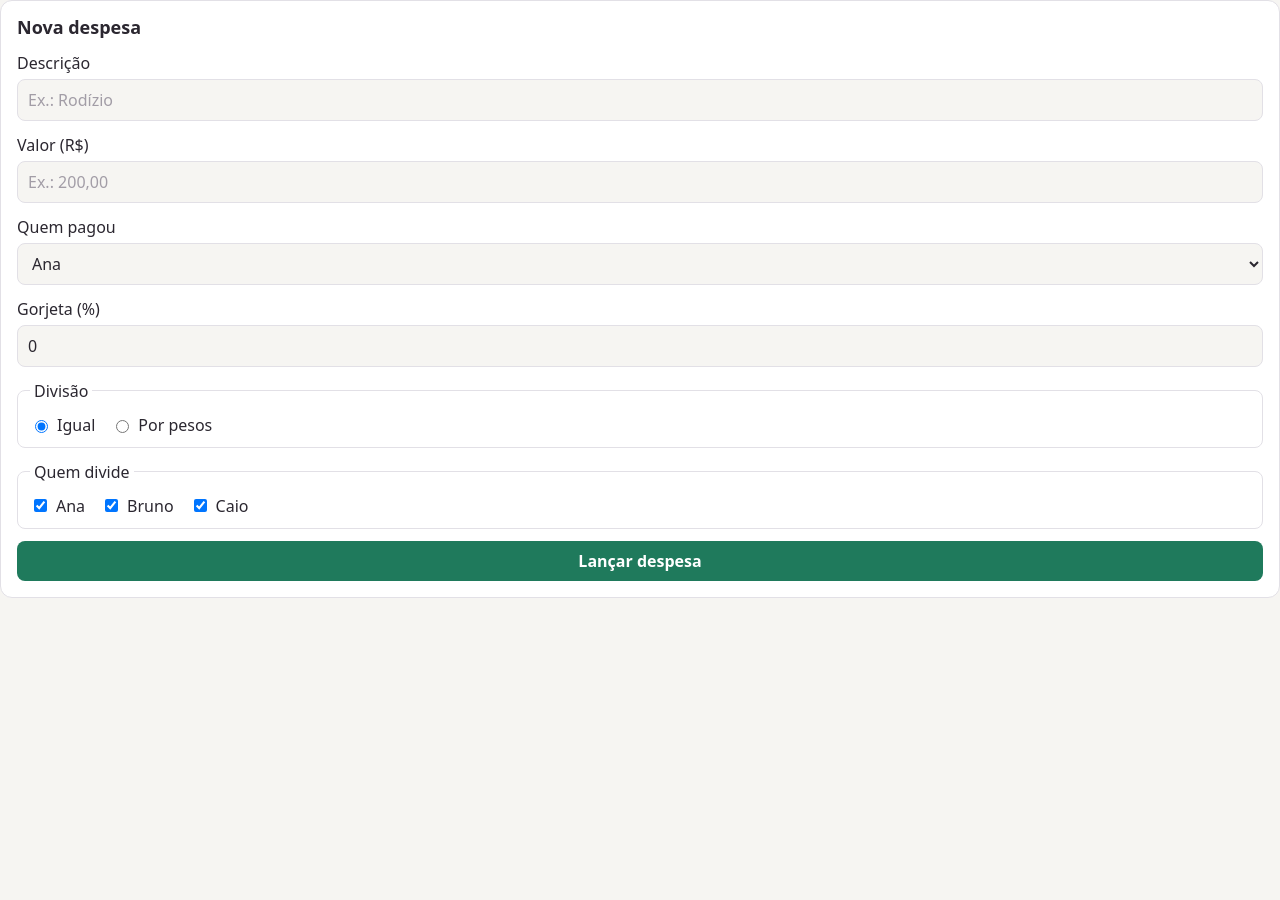
DespesaForm › deve recusar com mensagem quando o valor não é válido
The width and height of the screenshot is (1280, 900).
Step 1. Type "0,00" into the field labelled "Valor (R$)" → (640, 182), box left=17, top=161, right=1263, bottom=203
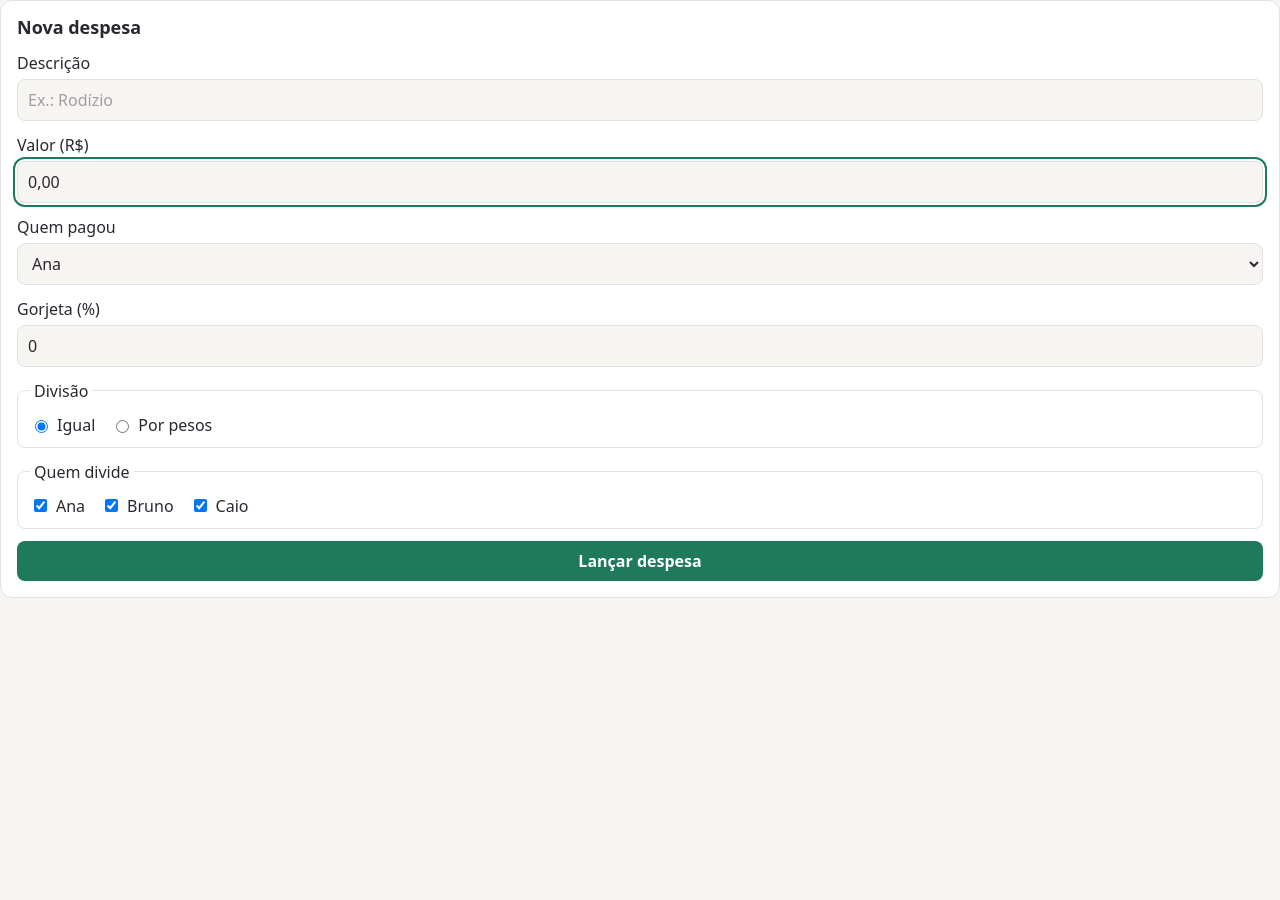
Step 2. Click the button "Lançar despesa" → (640, 561), box left=17, top=541, right=1263, bottom=581
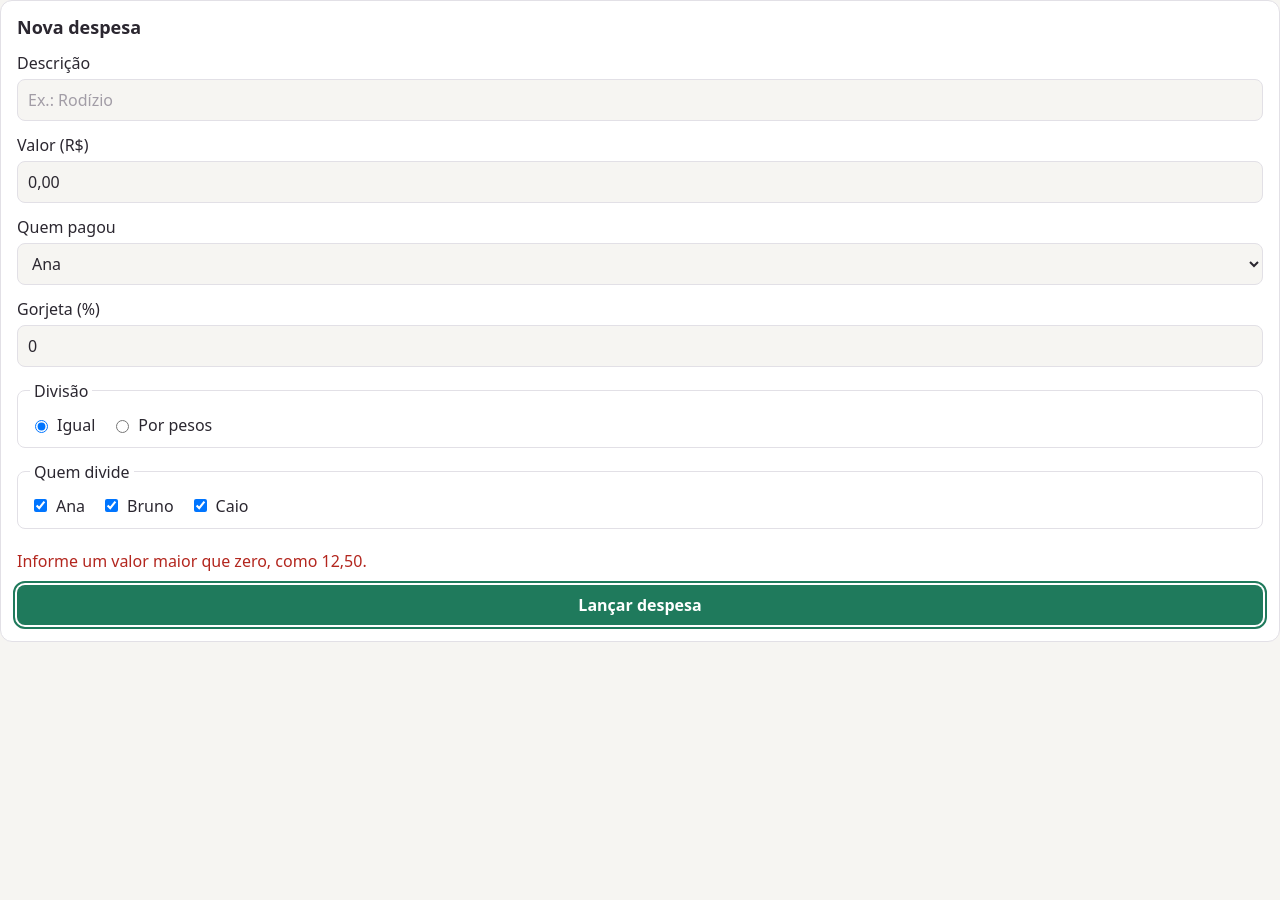
expect the message shows "Informe um valor maior que zero": met, box left=17, top=550, right=367, bottom=572
